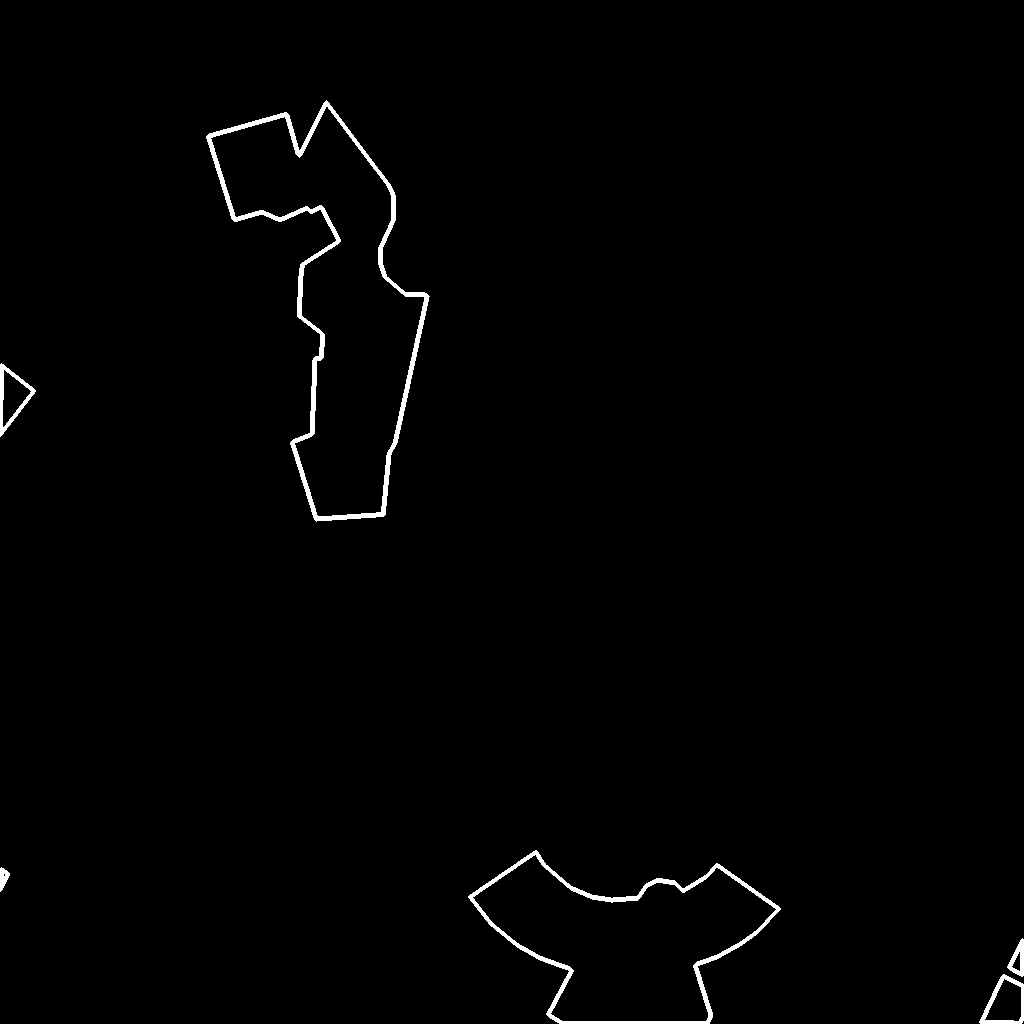building: (208, 102, 428, 520), (470, 852, 780, 1024), (0, 365, 35, 436), (981, 976, 1024, 1024), (1009, 940, 1024, 976), (0, 869, 9, 891)
